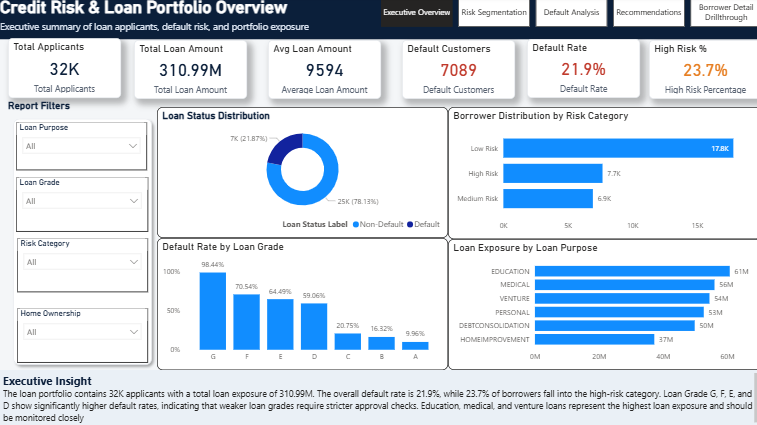

Layout of this report page (visuals, bound fields, positions):
{"tool":"powerbi","page":{"name":"Executive  Overview","canvas":[1280,720],"ordinal":0},"visuals":[{"type":"shape","title":"Credit Risk & Loan Portfolio Overview","box":[0,0,1280,70.6],"z":0},{"type":"card","title":"Total Applicants","fields":{"Values":["Credit Risk.Total Applicants"]},"box":[13.4,68.9,189.8,100.8],"z":1000},{"type":"card","title":"Total Loan Amount","fields":{"Values":["Credit Risk.Total Loan Amount"]},"box":[225.1,72.2,189.8,99.1],"z":2000},{"type":"card","title":"Avg Loan Amount","fields":{"Values":["Credit Risk.Average Loan Amount"]},"box":[450.2,72.2,189.8,99.1],"z":3000},{"type":"card","title":"Default Customers","fields":{"Values":["Credit Risk.Default Customers"]},"box":[675.3,72.2,189.8,99.1],"z":4000},{"type":"card","title":"Default Rate","fields":{"Values":["Credit Risk.Default Rate"]},"box":[885.2,70.6,189.8,99.1],"z":5000},{"type":"card","title":"High Risk %","fields":{"Values":["Credit Risk.High Risk Percentage"]},"box":[1090.2,72.2,189.8,99.1],"z":6000},{"type":"shape","title":"Report Filters","box":[13.4,171.3,250.3,455.2],"z":7000},{"type":"slicer","title":"Loan Purpose","fields":{"Values":["Credit Risk.Loan Purpose"]},"box":[26.9,210,220.1,80.6],"z":8000},{"type":"slicer","title":"Loan Grade","fields":{"Values":["Credit Risk.Loan Grade"]},"box":[26.9,302.4,221.7,92.4],"z":9000},{"type":"slicer","title":"Risk Category","fields":{"Values":["Credit Risk.Risk Category"]},"box":[28.6,404.8,220.1,90.7],"z":10000},{"type":"slicer","title":"Home Ownership","fields":{"Values":["Credit Risk.Home Ownership"]},"box":[28.6,522.4,220.1,92.4],"z":11000},{"type":"donutChart","title":"Loan Status Distribution","fields":{"Category":["Credit Risk.Loan Status Label"],"Y":["Credit Risk.Total Applicants"]},"box":[263.7,184.8,488.8,220.1],"z":12000},{"type":"clusteredBarChart","title":"Borrower Distribution by Risk Category","fields":{"Category":["Credit Risk.Risk Category"],"Y":["Credit Risk.Total Applicants"]},"box":[752.5,184.8,527.5,221.7],"z":13000},{"type":"clusteredColumnChart","title":"Default Rate by Loan Grade","fields":{"Category":["Credit Risk.Loan Grade"],"Y":["Credit Risk.Default Rate"]},"box":[263.7,404.8,488.8,221.7],"z":14000},{"type":"clusteredBarChart","title":"Loan Exposure by Loan Purpose","fields":{"Category":["Credit Risk.Loan Purpose"],"Y":["Sum(Credit Risk.Loan Amount)"]},"box":[752.5,406.5,527.5,220.1],"z":15000},{"type":"textbox","box":[0,626.6,1280,94.1],"z":16000},{"type":"pageNavigator","box":[640,0,640,50.4],"z":17000}]}

Visuals, with their boxes in screenshot pixels (x1, y1, x2, y2), scaled from the page's 1280x720 canvas onto the 757x425 screenshot:
"Credit Risk & Loan Portfolio Overview" shape: <bbox>0, 0, 756, 42</bbox>
"Total Applicants" card: <bbox>8, 41, 120, 100</bbox>
"Total Loan Amount" card: <bbox>133, 43, 245, 101</bbox>
"Avg Loan Amount" card: <bbox>266, 43, 378, 101</bbox>
"Default Customers" card: <bbox>399, 43, 512, 101</bbox>
"Default Rate" card: <bbox>524, 42, 636, 100</bbox>
"High Risk %" card: <bbox>645, 43, 756, 101</bbox>
"Report Filters" shape: <bbox>8, 101, 156, 370</bbox>
"Loan Purpose" slicer: <bbox>16, 124, 146, 172</bbox>
"Loan Grade" slicer: <bbox>16, 178, 147, 233</bbox>
"Risk Category" slicer: <bbox>17, 239, 147, 292</bbox>
"Home Ownership" slicer: <bbox>17, 308, 147, 363</bbox>
"Loan Status Distribution" donutChart: <bbox>156, 109, 445, 239</bbox>
"Borrower Distribution by Risk Category" clusteredBarChart: <bbox>445, 109, 756, 240</bbox>
"Default Rate by Loan Grade" clusteredColumnChart: <bbox>156, 239, 445, 370</bbox>
"Loan Exposure by Loan Purpose" clusteredBarChart: <bbox>445, 240, 756, 370</bbox>
textbox: <bbox>0, 370, 756, 424</bbox>
pageNavigator: <bbox>378, 0, 756, 30</bbox>
